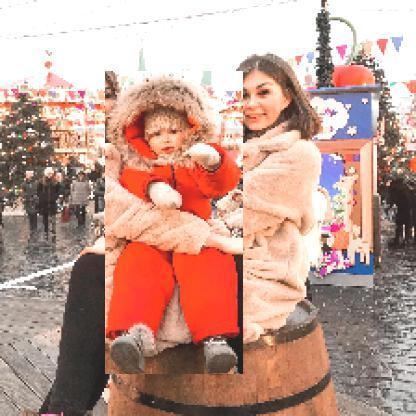child: (106, 72, 245, 376)
